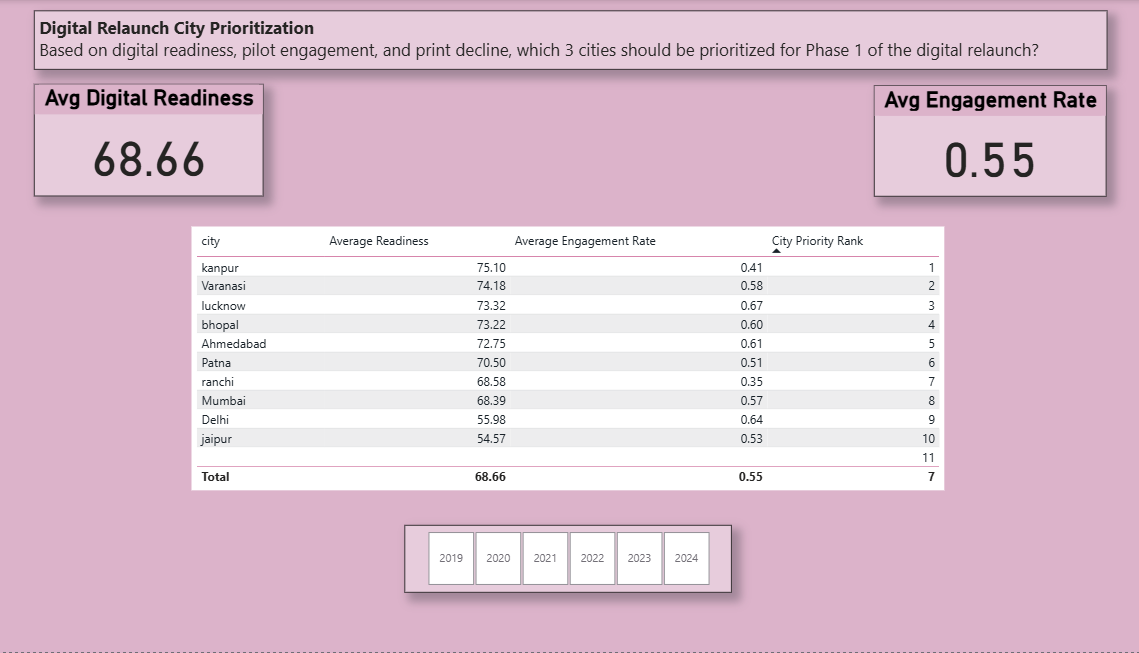

Layout of this report page (visuals, bound fields, positions):
{"tool":"powerbi","page":{"name":"Digital Relaunch City Prioritization","canvas":[1280,720],"ordinal":7},"visuals":[{"type":"textbox","box":[50,11.7,1185,65],"z":1000},{"type":"slicer","fields":{"Values":["fact_city_readiness.Year"]},"box":[458.8,579.8,361.1,74.5],"z":2000},{"type":"card","title":"Avg Digital Readiness","fields":{"Values":["Key Measures.Average Readiness"]},"box":[49.7,92.8,253.4,124.2],"z":3000},{"type":"card","title":"Avg Engagement Rate","fields":{"Values":["fact_digital_pilot.Average Engagement Rate"]},"box":[977.3,94.4,256.8,122.6],"z":4000},{"type":"tableEx","fields":{"Values":["dim_city.city","Key Measures.Average Readiness","fact_digital_pilot.Average Engagement Rate","Key Measures.City Priority Rank"]},"box":[223.6,250.1,831.6,291.5],"z":5000}]}

Visuals, with their boxes in screenshot pixels (x1, y1, x2, y2), scaled from the page's 1280x720 canvas onto the 1139x653 screenshot:
textbox: <region>44, 11, 1099, 70</region>
slicer - fact_city_readiness.Year: <region>408, 526, 730, 593</region>
"Avg Digital Readiness" card: <region>44, 84, 270, 197</region>
"Avg Engagement Rate" card: <region>870, 86, 1098, 197</region>
tableEx - dim_city.city x Key Measures.Average Readiness: <region>199, 227, 939, 491</region>
